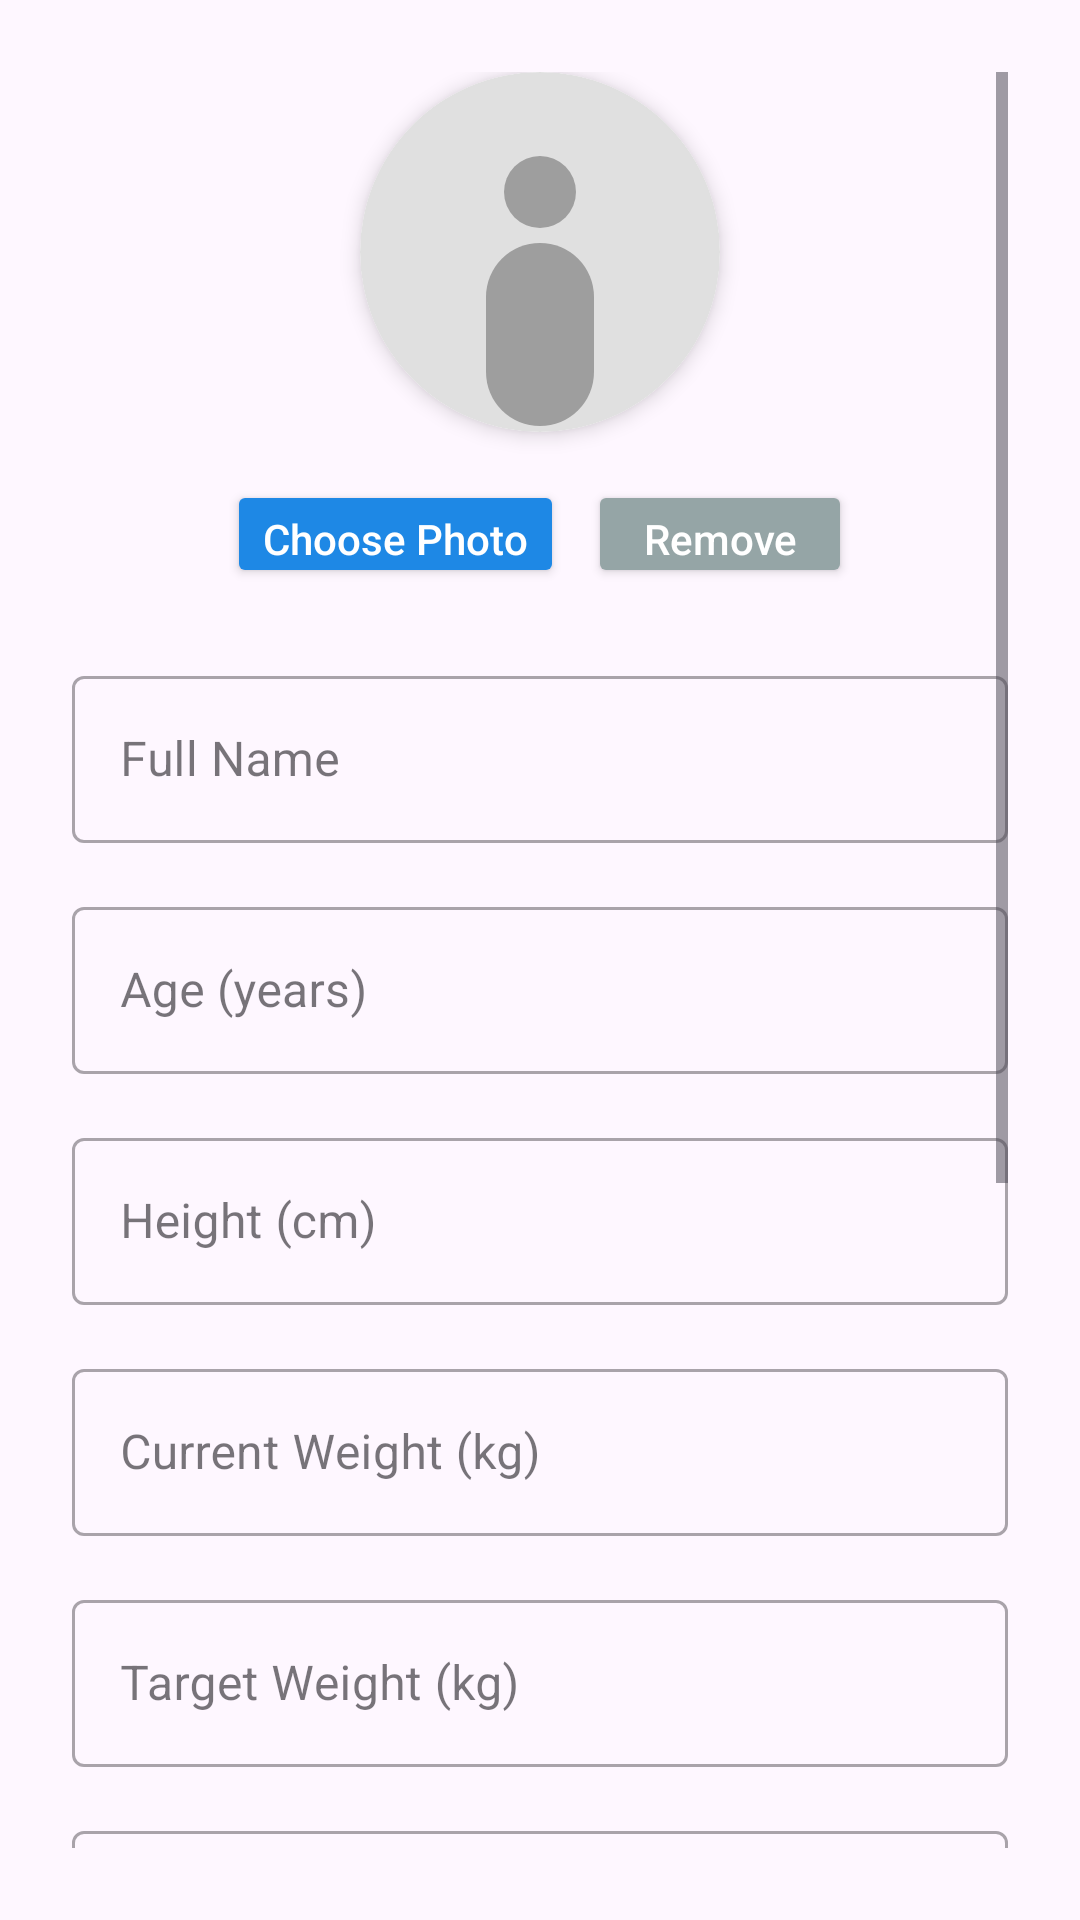

Named icons in this screenshot (1080 x 1920) and their bounding boxes, bbox=[x1, y1, x2, y2]:
Profile Image: bbox=[360, 72, 720, 432]
